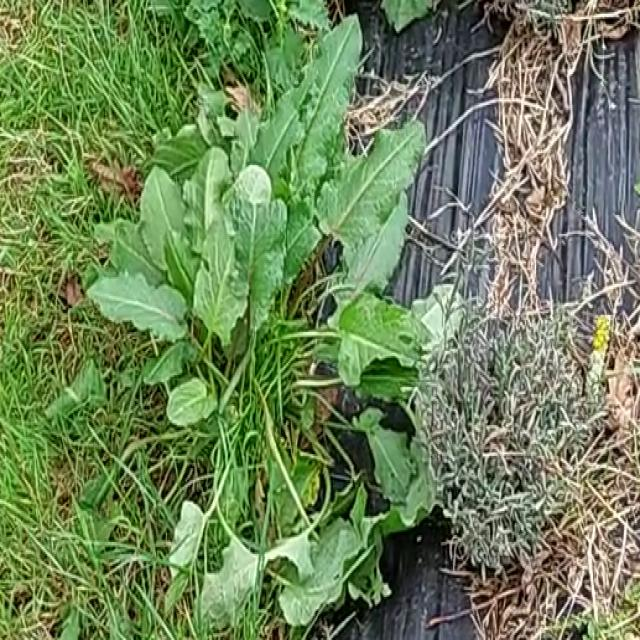organic waste: (94, 2, 435, 559)
